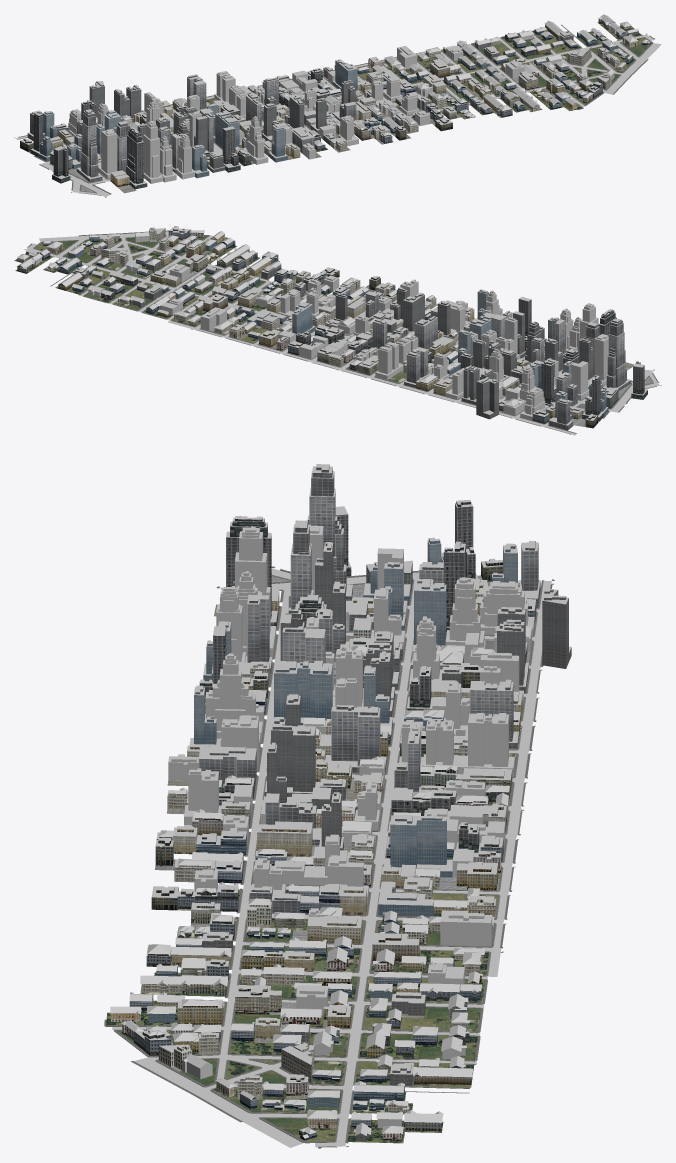
Rendered from my_city1234_0.fbx.
The picture shows the model from 3 angles, top to bottom: view 1: azimuth 30°, elevation 25°; view 2: azimuth 150°, elevation 25°; view 3: azimuth 270°, elevation 25°; orthographic projection. The views are drawn at different scales.
Visible parts, largest first — view 1: FacadeTexture_5, FacadeTexture_8, FacadeTexture_19, FacadeTexture_10, FacadeTexture_3, Street, FacadeTexture_4, FacadeTexture_11, FacadeTexture_7, Pavement, FacadeTexture_9, FacadeTexture_14 (+25 smaller); view 2: FacadeTexture_5, FacadeTexture_8, FacadeTexture_19, Street, FacadeTexture_4, FacadeTexture_3, FacadeTexture_11, FacadeTexture_10, Pavement, FacadeTexture_9, Curbs, FacadeTexture_7 (+27 smaller); view 3: FacadeTexture_5, Street, FacadeTexture_10, FacadeTexture_8, FacadeTexture_3, Pavement, FacadeTexture_4, FacadeTexture_19, FacadeTexture_11, FlatRoofTexture_7, FlatRoofTexture_9, FacadeTexture_7 (+32 smaller).
Part boxes in pixels (x1,y1,x2,y2): FacadeTexture_5: (27, 41, 556, 182); FacadeTexture_8: (89, 31, 638, 172); FacadeTexture_19: (30, 33, 536, 189); FacadeTexture_10: (38, 41, 617, 178); FacadeTexture_3: (68, 75, 430, 182); Street: (19, 34, 661, 194); FacadeTexture_4: (96, 48, 561, 147); FacadeTexture_11: (96, 72, 340, 179); FacadeTexture_7: (143, 25, 619, 183); Pavement: (14, 24, 654, 197); FacadeTexture_9: (65, 31, 620, 152); FacadeTexture_14: (212, 31, 651, 155); FacadeTexture_5: (129, 261, 631, 430); FacadeTexture_8: (26, 251, 593, 419); FacadeTexture_19: (101, 278, 647, 421); Street: (28, 231, 657, 434); FacadeTexture_4: (126, 264, 525, 415); FacadeTexture_3: (278, 276, 581, 420); FacadeTexture_11: (338, 303, 608, 403); FacadeTexture_10: (68, 239, 608, 419); Pavement: (24, 230, 661, 434); FacadeTexture_9: (45, 236, 552, 405); Curbs: (25, 231, 659, 435); FacadeTexture_7: (32, 233, 598, 380); FacadeTexture_5: (198, 465, 540, 1042); Street: (112, 570, 550, 1147); FacadeTexture_10: (148, 538, 517, 1108); FacadeTexture_8: (202, 543, 571, 1141); FacadeTexture_3: (194, 572, 534, 903); Pavement: (104, 566, 554, 1148); FacadeTexture_4: (184, 618, 531, 1055); FacadeTexture_19: (200, 501, 509, 1046); FacadeTexture_11: (168, 527, 514, 846); FlatRoofTexture_7: (152, 464, 528, 1132); FlatRoofTexture_9: (174, 502, 540, 1077); FacadeTexture_7: (182, 527, 492, 1128).
Bounding box in the file's own units: 1300 × 136 × 441.
